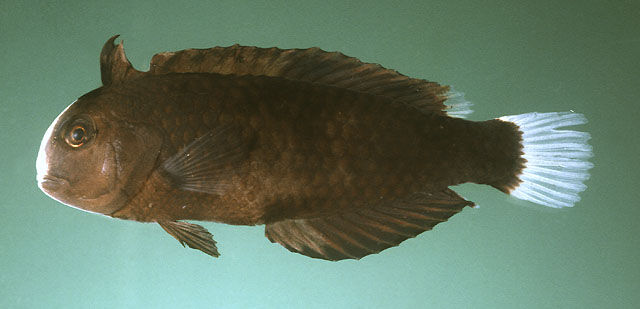fish: (35, 33, 595, 263)
